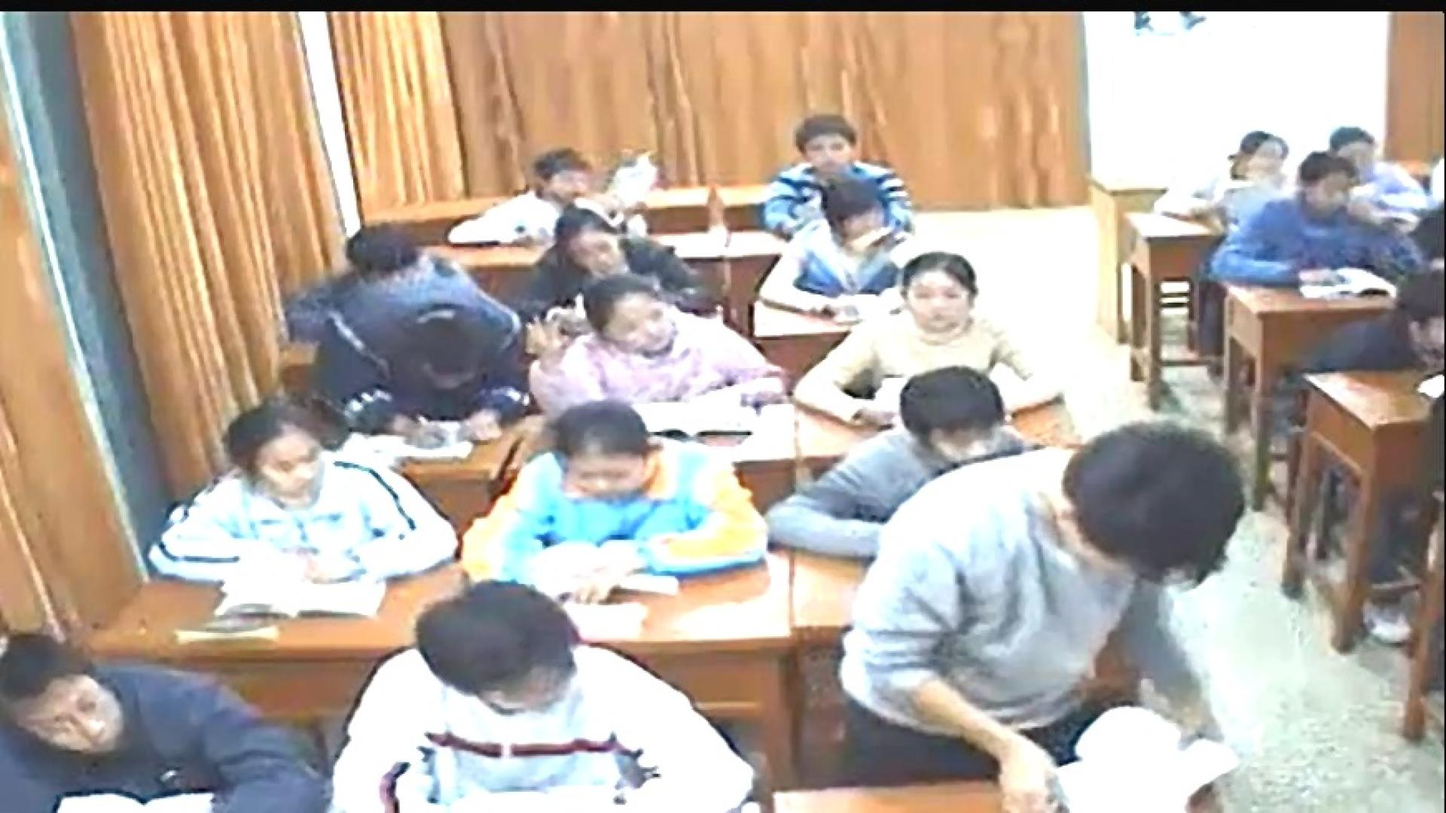Look Around: (0, 627, 241, 813), (231, 399, 351, 521)
Normal: (856, 254, 1031, 366)
Stand Up: (898, 443, 1259, 807)
Wave: (526, 311, 580, 421)
